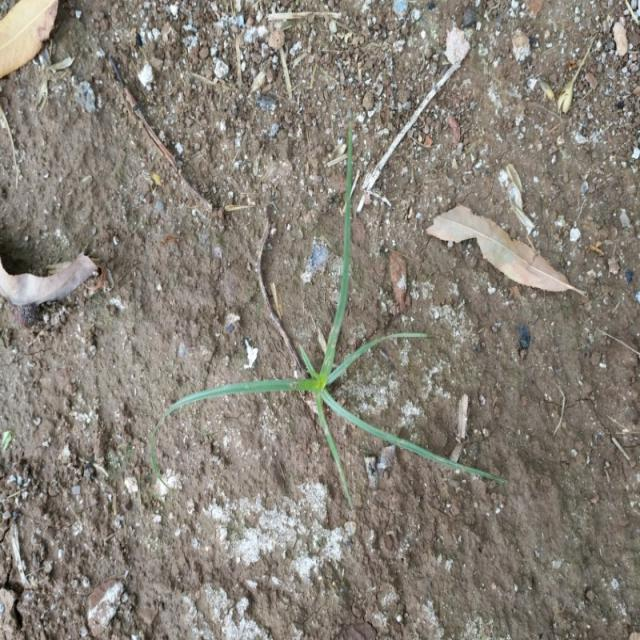sedge: (148, 196, 493, 525)
